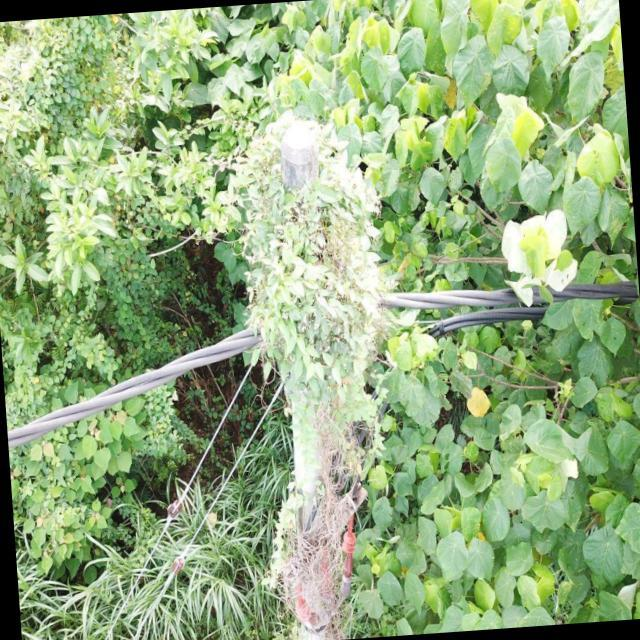critical vegetation: (218, 99, 410, 612)
